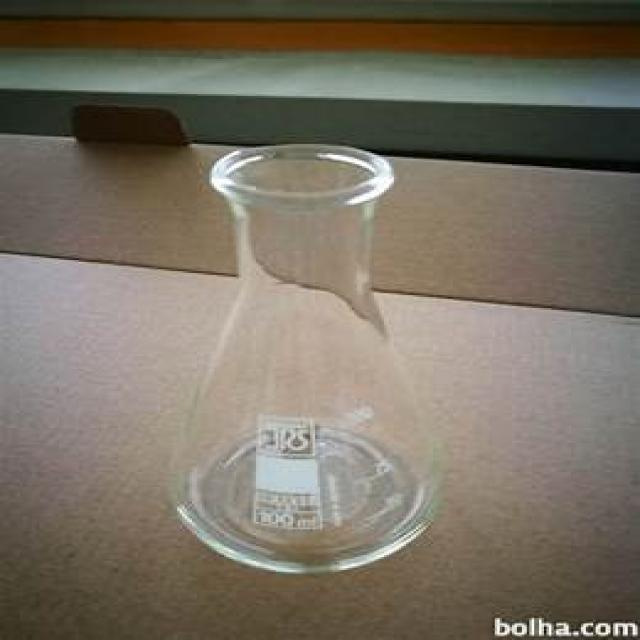Titrarion: (168, 151, 447, 576)
